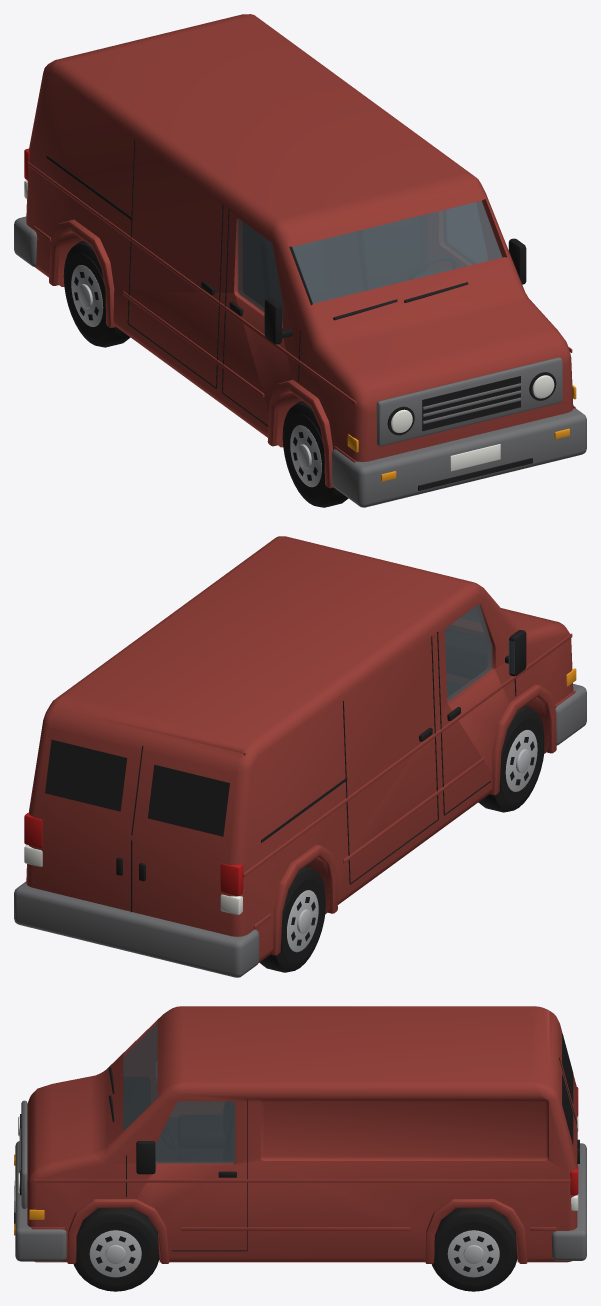
Rendered from Van.fbx.
The picture shows the model from 3 angles, top to bottom: view 1: azimuth 30°, elevation 25°; view 2: azimuth 150°, elevation 25°; view 3: azimuth 270°, elevation 25°; orthographic projection. The views are drawn at different scales.
Visible parts, largest first — view 1: Van_Mesh; view 2: Van_Mesh; view 3: Van_Mesh.
Part boxes in pixels (x1,y1,x2,y2): Van_Mesh: (14, 14, 586, 507); Van_Mesh: (14, 536, 586, 977); Van_Mesh: (14, 1006, 586, 1291).
Bounding box in the file's own units: 2.21 × 2.12 × 5.31.
